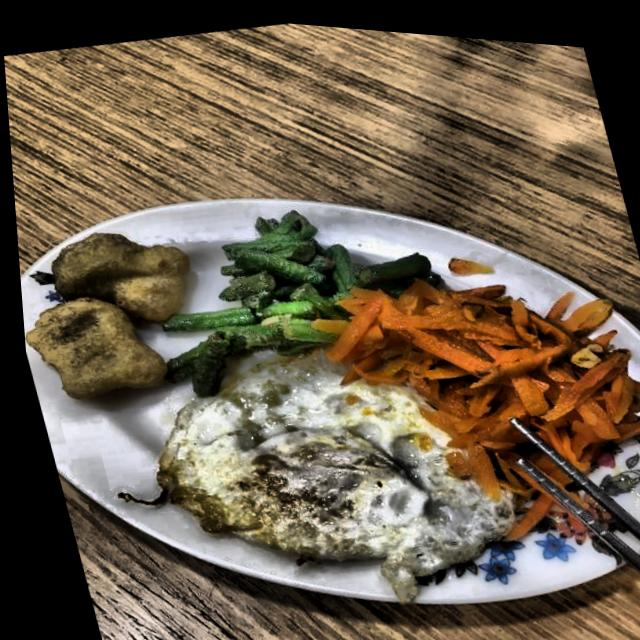Food: (125, 315, 510, 612), (379, 238, 640, 522), (12, 210, 218, 415)
